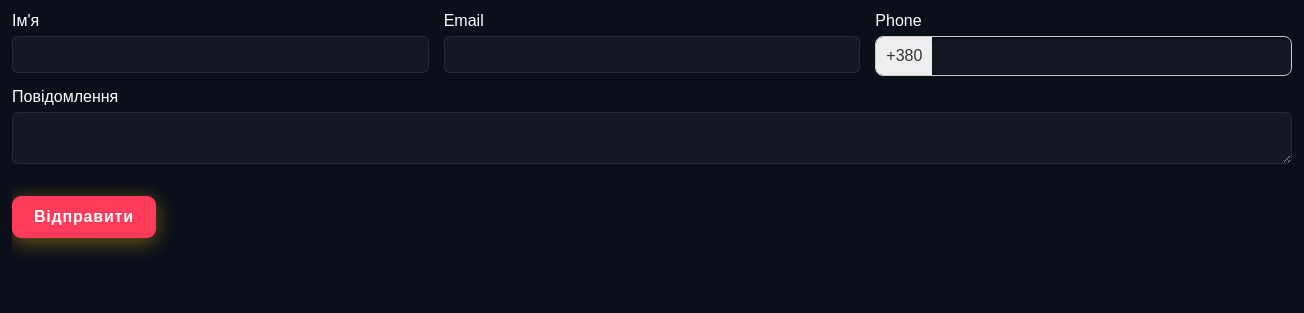
it: ContactForm › Email validation should work
Type "wrongemail" into the field labelled "Email" at (652, 54), box [444,36,860,73]
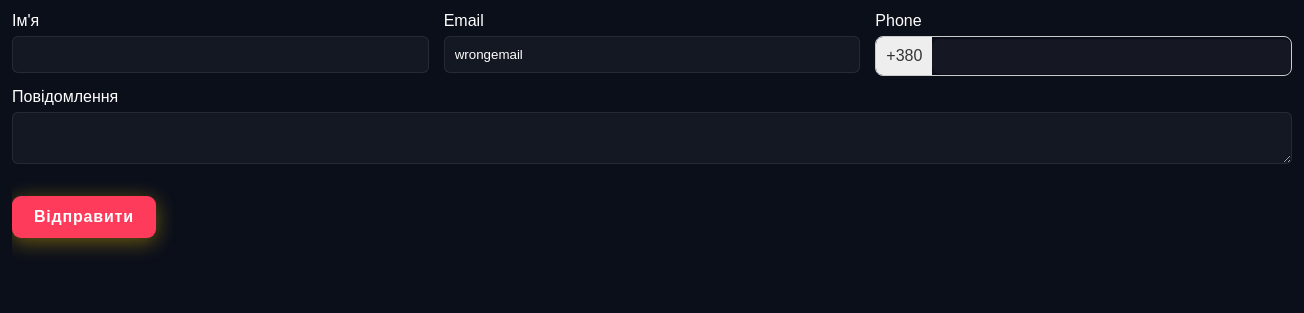
Leave the field labelled "Email", box [444,36,860,73]
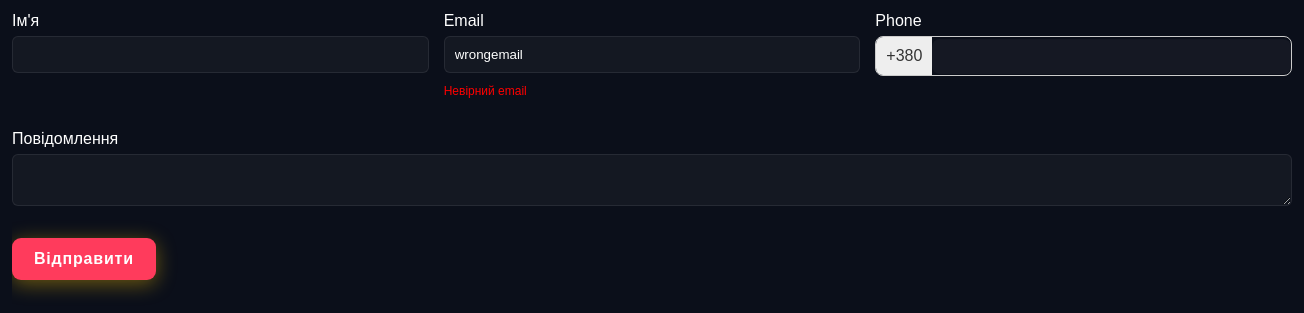
Expected: the text "Невірний email" is shown, [444,84,527,98]
